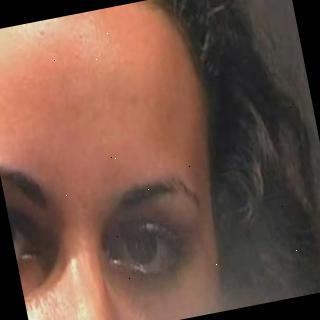smoke: (90, 282, 287, 320)
